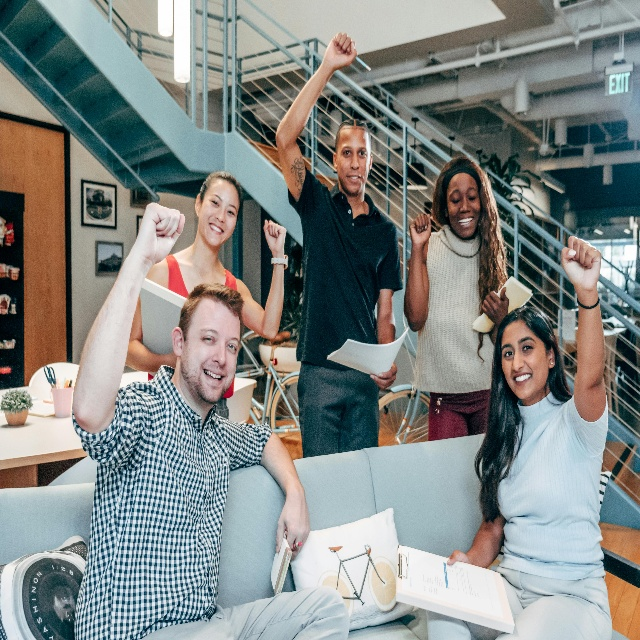Sin_guantes: (138, 202, 186, 268), (276, 486, 311, 558), (561, 233, 602, 293), (323, 33, 358, 70), (482, 287, 510, 327), (263, 218, 286, 254), (370, 361, 398, 390), (409, 213, 432, 248), (446, 550, 468, 566)
